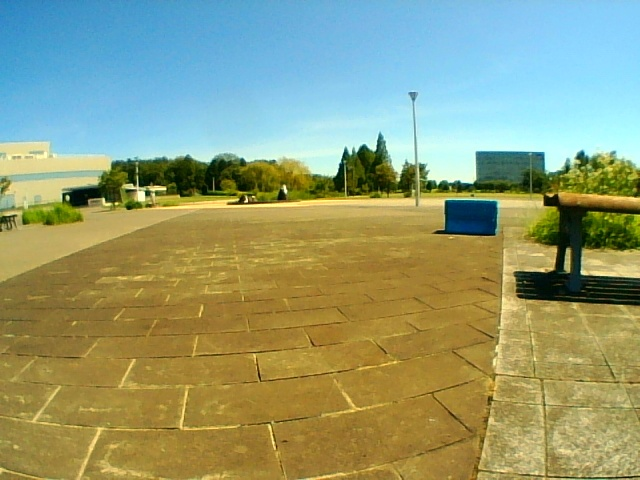blue_box: (445, 201, 498, 235)
